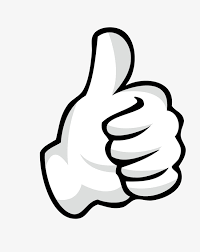thumbs_up: (30, 11, 184, 245)
